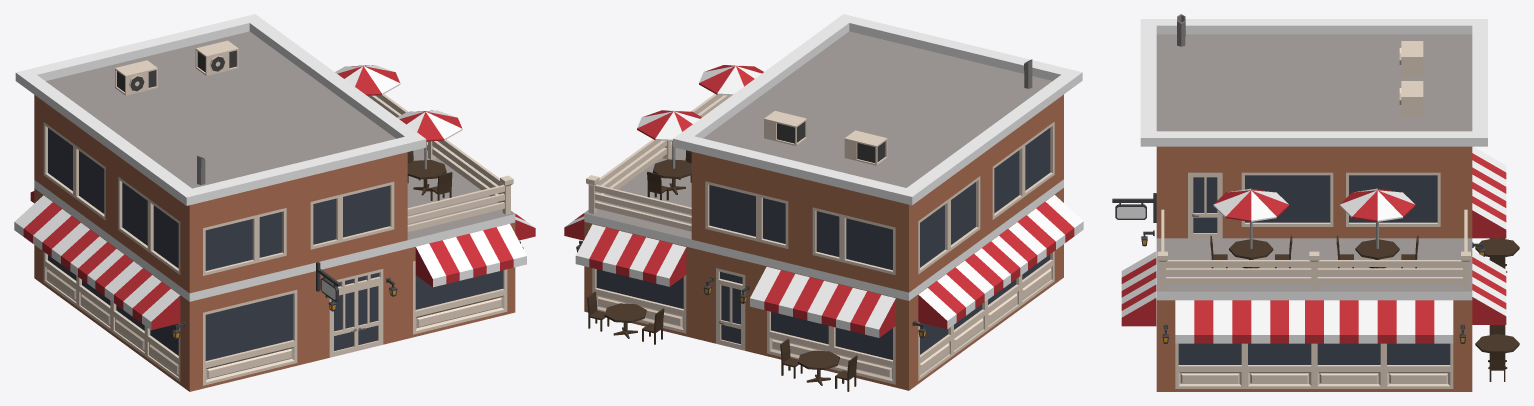
File: building-restaurant.fbx
3 views of the same model, side by side, from view 1: azimuth 30°, elevation 25°; view 2: azimuth 150°, elevation 25°; view 3: azimuth 270°, elevation 25° (orthographic).
Parts seen in each view (by area): view 1: building-restaurant; view 2: building-restaurant; view 3: building-restaurant.
Boxes of the visible parts, x1=… form: building-restaurant: x1=14, y1=14, x2=535, y2=391; building-restaurant: x1=564, y1=14, x2=1083, y2=391; building-restaurant: x1=1112, y1=14, x2=1519, y2=391.
Size of the model in its own units: 14.28 by 7.9 by 12.9.
